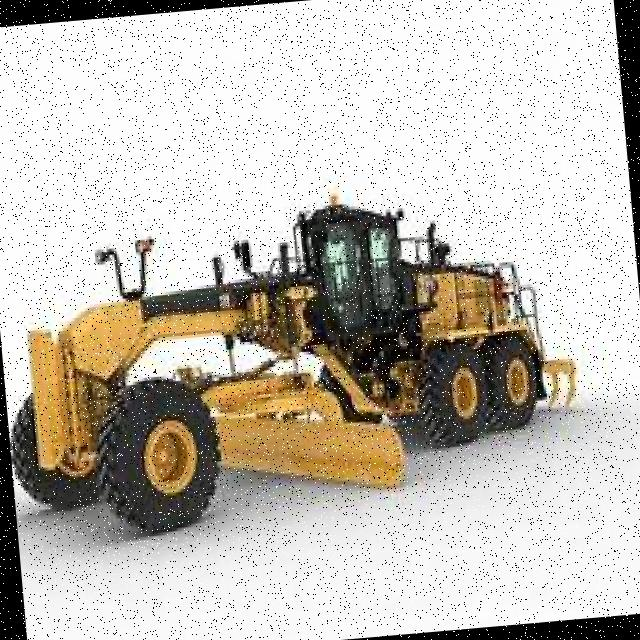Grader: (0, 175, 592, 556)
